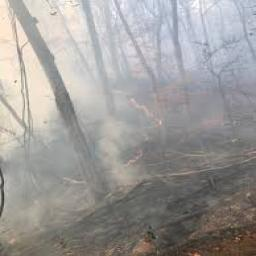Heavy smoke: (250, 185, 256, 211)
Low smoke: (50, 99, 152, 186)
